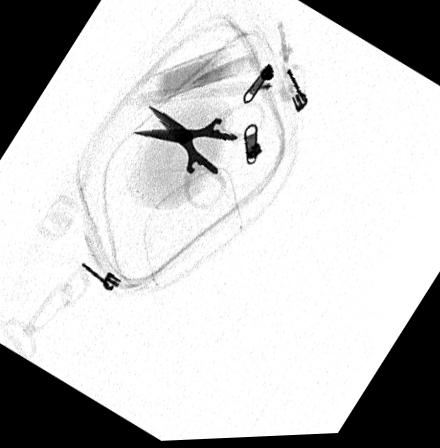Scissors: (130, 96, 271, 214)
